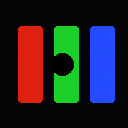2 circle: (51, 53, 73, 75)
